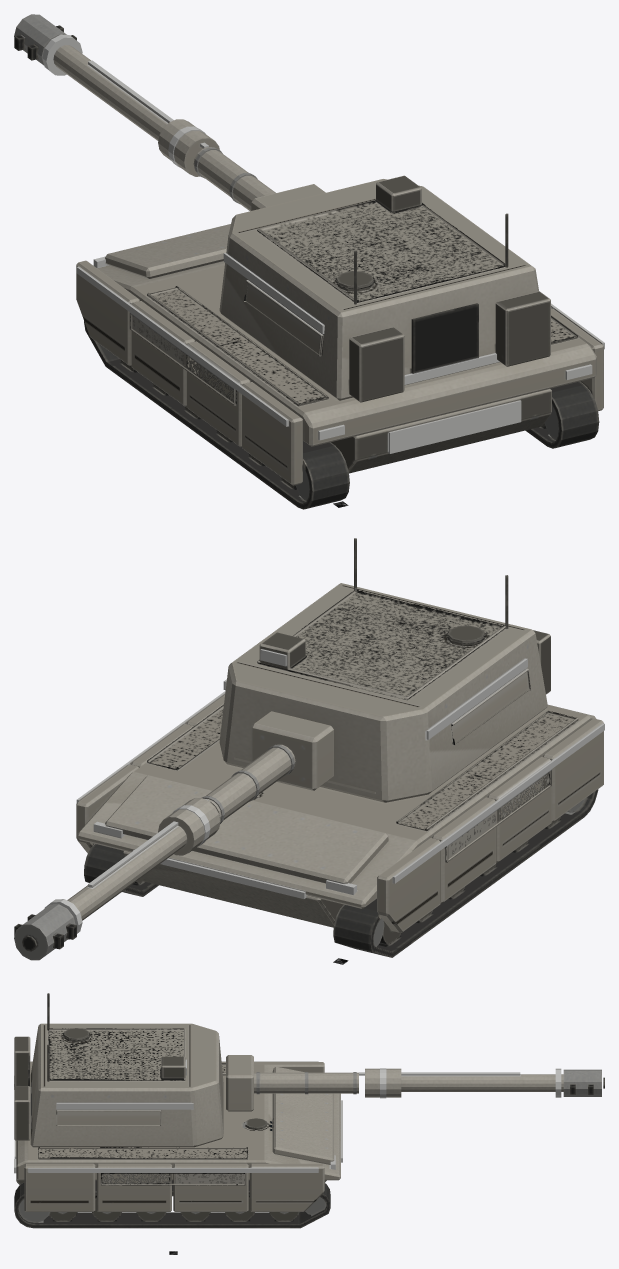
The model's file is ord_verdict.fbx.
3 renders of one model, top to bottom at view 1: azimuth 30°, elevation 25°; view 2: azimuth 150°, elevation 25°; view 3: azimuth 270°, elevation 25°, orthographic. The views are drawn at different scales.
Visible parts, largest first — view 1: base_bar, turret_bar, barrel_bar, base_glow_running_bar, turret_glow_running_bar, barrel_glow_weapon_bar; view 2: base_bar, turret_bar, barrel_bar, base_glow_running_bar, turret_glow_running_bar, barrel_glow_weapon_bar, base_glow_head_bar; view 3: base_bar, turret_bar, barrel_bar, base_glow_running_bar, turret_glow_running_bar, barrel_glow_weapon_bar.
Boxes of the visible parts, <box> form: base_bar: <box>76,224,603,509</box>; turret_bar: <box>219,175,550,402</box>; barrel_bar: <box>14,14,325,211</box>; base_glow_running_bar: <box>76,266,604,453</box>; turret_glow_running_bar: <box>223,253,499,384</box>; barrel_glow_weapon_bar: <box>42,34,208,167</box>; base_bar: <box>76,695,603,957</box>; turret_bar: <box>219,538,550,802</box>; barrel_bar: <box>14,711,333,960</box>; base_glow_running_bar: <box>76,691,604,898</box>; turret_glow_running_bar: <box>223,649,527,739</box>; barrel_glow_weapon_bar: <box>44,799,210,939</box>; base_glow_head_bar: <box>93,821,356,894</box>; base_bar: <box>14,1062,340,1228</box>; turret_bar: <box>14,993,223,1147</box>; barrel_bar: <box>226,1055,604,1111</box>; base_glow_running_bar: <box>14,1061,342,1173</box>; turret_glow_running_bar: <box>56,1059,193,1109</box>; barrel_glow_weapon_bar: <box>359,1068,561,1098</box>.
Bounding box in the file's own units: 631 × 640 × 1465.
2 materials, 2 textured.
